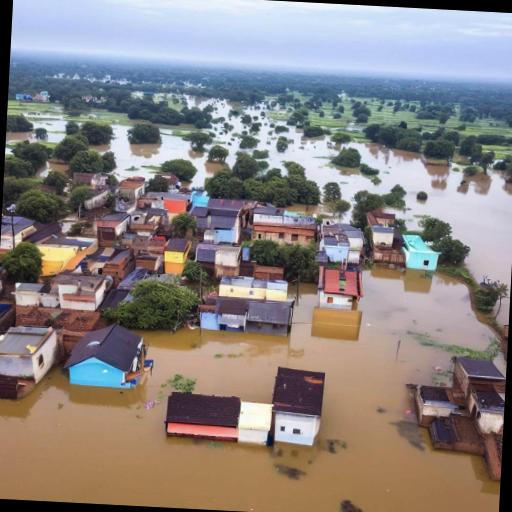flood: (0, 268, 500, 512), (7, 96, 512, 288), (5, 131, 34, 148), (38, 160, 67, 174)
house: (66, 316, 146, 390), (268, 364, 326, 454), (166, 392, 240, 446), (210, 276, 294, 322), (0, 324, 60, 387), (206, 288, 286, 332), (250, 201, 320, 244), (362, 208, 408, 264), (51, 270, 110, 312), (32, 236, 87, 278), (308, 303, 361, 345), (412, 384, 466, 421), (316, 263, 360, 307), (396, 234, 440, 278), (318, 222, 364, 262), (236, 399, 274, 445), (452, 358, 505, 388), (470, 380, 506, 424), (480, 426, 504, 482), (0, 213, 35, 250), (96, 246, 132, 280), (162, 236, 192, 276), (212, 244, 242, 279), (94, 212, 129, 241), (0, 298, 16, 359), (117, 173, 147, 205), (13, 282, 42, 306), (164, 192, 190, 217), (250, 264, 286, 282), (194, 241, 218, 267), (0, 269, 3, 306)
